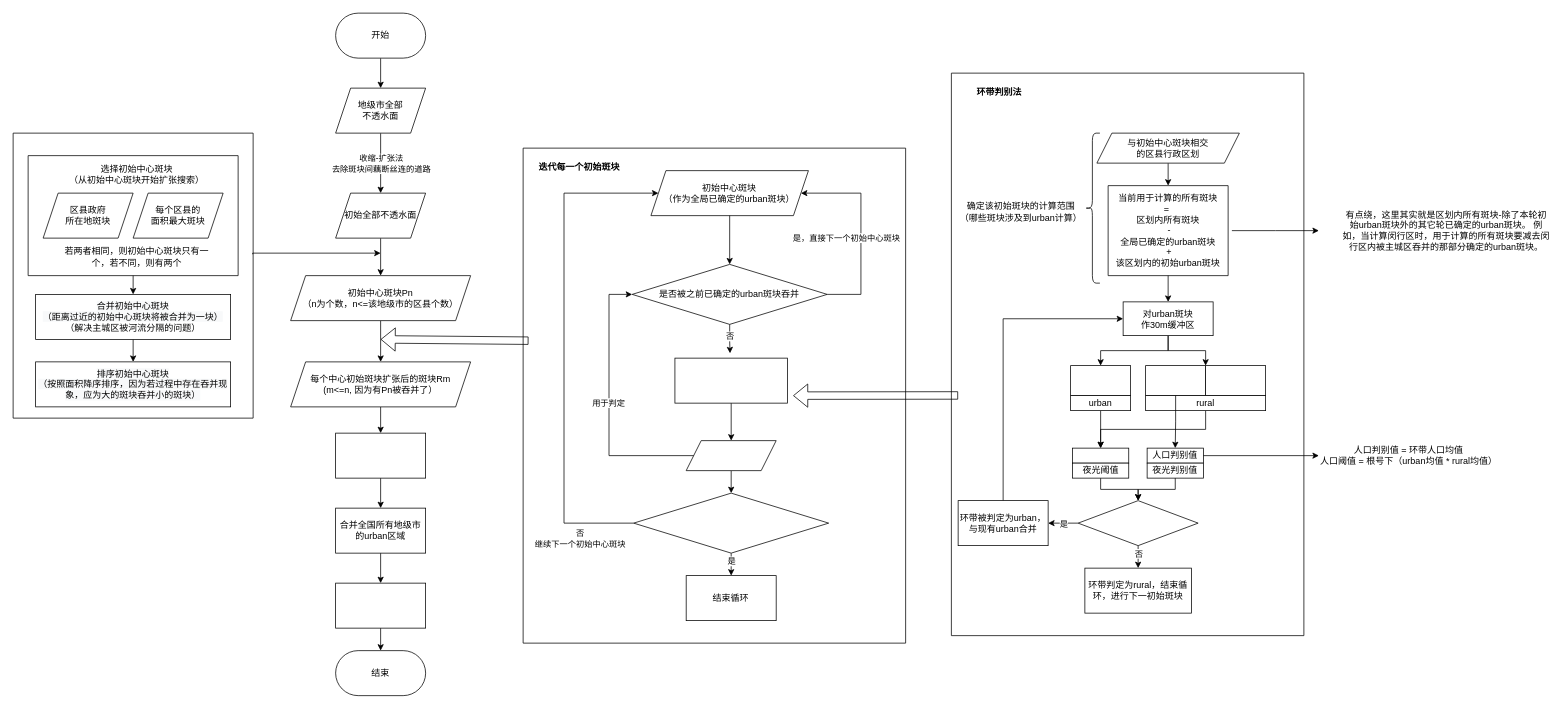
Image size: 1565x709. Some labels were removed from this diagram. Here are the shapes that lost their labels. From the top down, the centre of each, then its label:
At (132,275): "初始中心斑块预处理".
At (730,380): "环带判别法计算urban".
At (1100,380): "urban斑块".
At (1175,380): "当前环带斑块".
At (1235,380): "环带以外斑块".
At (380,455): "合并所有Rm，得到该地级市的urban区域".
At (730,455): "已确定urban斑块".
At (1100,455): "人口阈值".
At (731,522): "是否遍历所有初始中心斑块".
At (1137,523): "任一判别值 大于任一阈值".
At (380,605): "填补空洞、拓扑检查".
